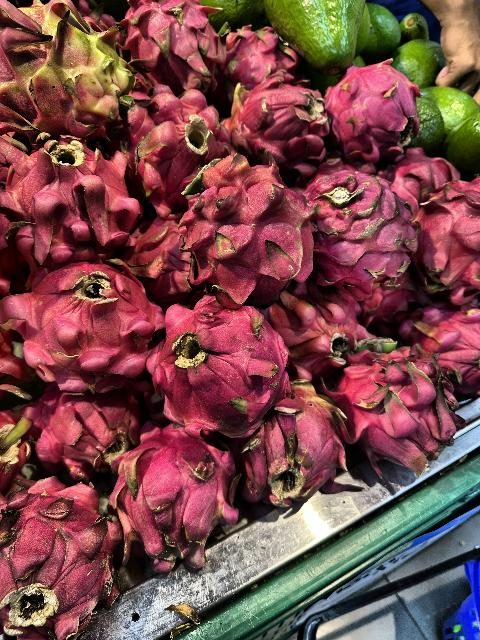buah-naga-belum-matang: (0, 0, 136, 134), (247, 384, 347, 514), (220, 85, 320, 158)
buah-naga-matang: (179, 160, 327, 308), (0, 130, 142, 278), (0, 253, 152, 389), (0, 478, 126, 638), (335, 348, 473, 488), (112, 432, 248, 574), (302, 154, 416, 300), (118, 0, 243, 94), (320, 68, 430, 164), (17, 388, 142, 472), (118, 94, 220, 190), (404, 167, 480, 293), (264, 288, 360, 370)
